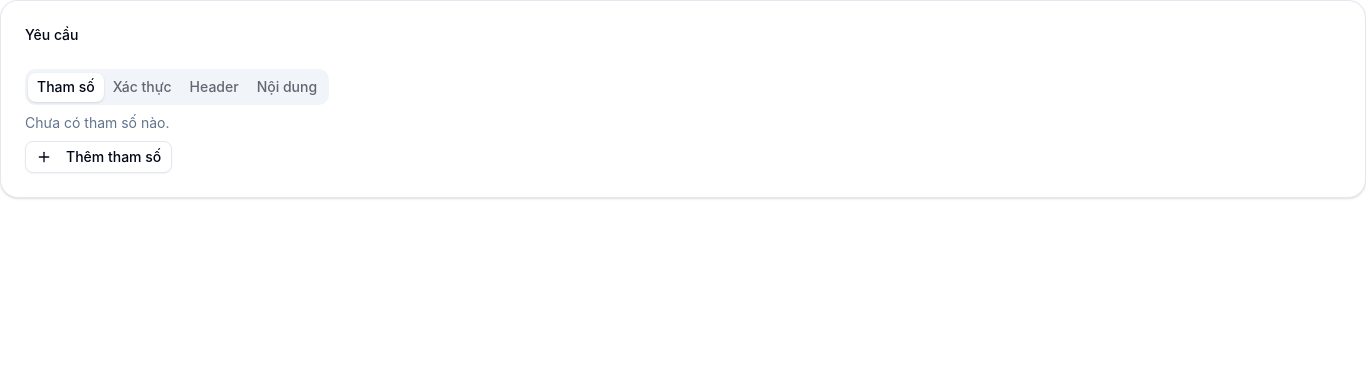
Test: RequestPanel › switches to the Body tab and shows the body editor
The width and height of the screenshot is (1366, 380).
Click the tab "Nội dung" at (287, 87), box x1=248 y1=72 x2=326 y2=102
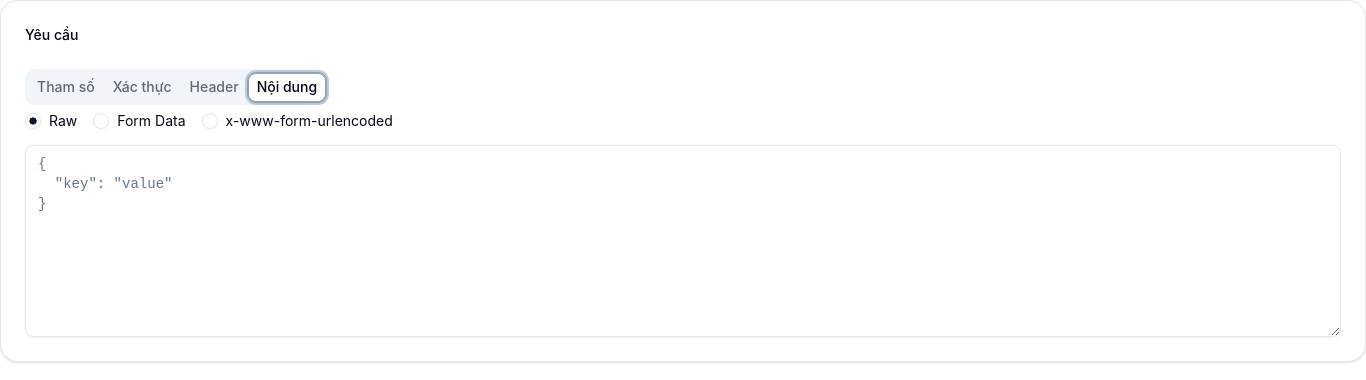
Expected: the text box is shown, x1=25 y1=145 x2=1341 y2=337
